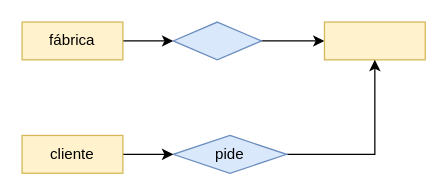
Some shapes in this 447 by 195 pixel diagram are drawn without their labels. The shapes that lost their labels are listed below. From the top down, each one's box as (x1, y1, x2, y2) in pixels, then its label:
(172, 21, 261, 60): crea
(323, 21, 425, 60): articulos
